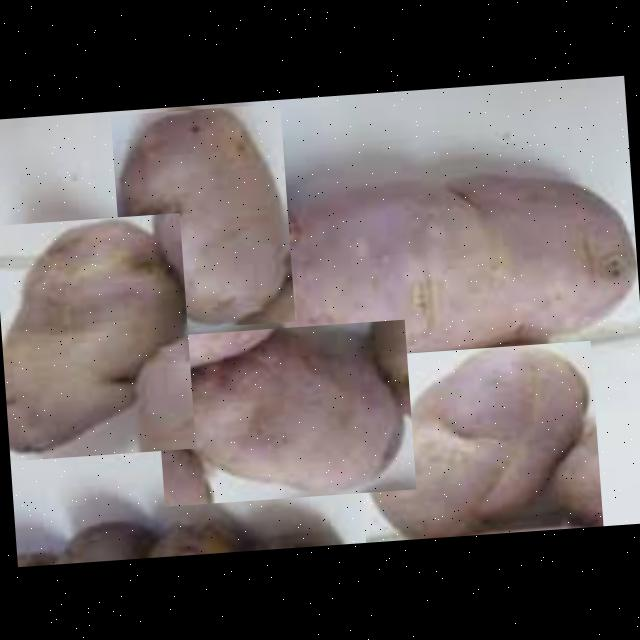Defected potato: (244, 161, 640, 367), (352, 339, 602, 542), (152, 318, 415, 506), (0, 211, 194, 460), (109, 102, 294, 332)
